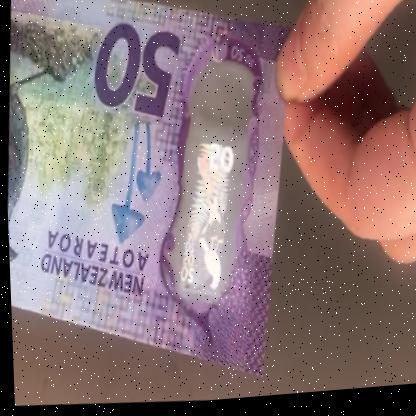50B: (170, 81, 258, 302)
